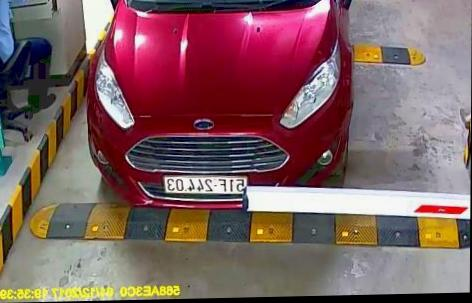License_Plate: (160, 167, 252, 200)
